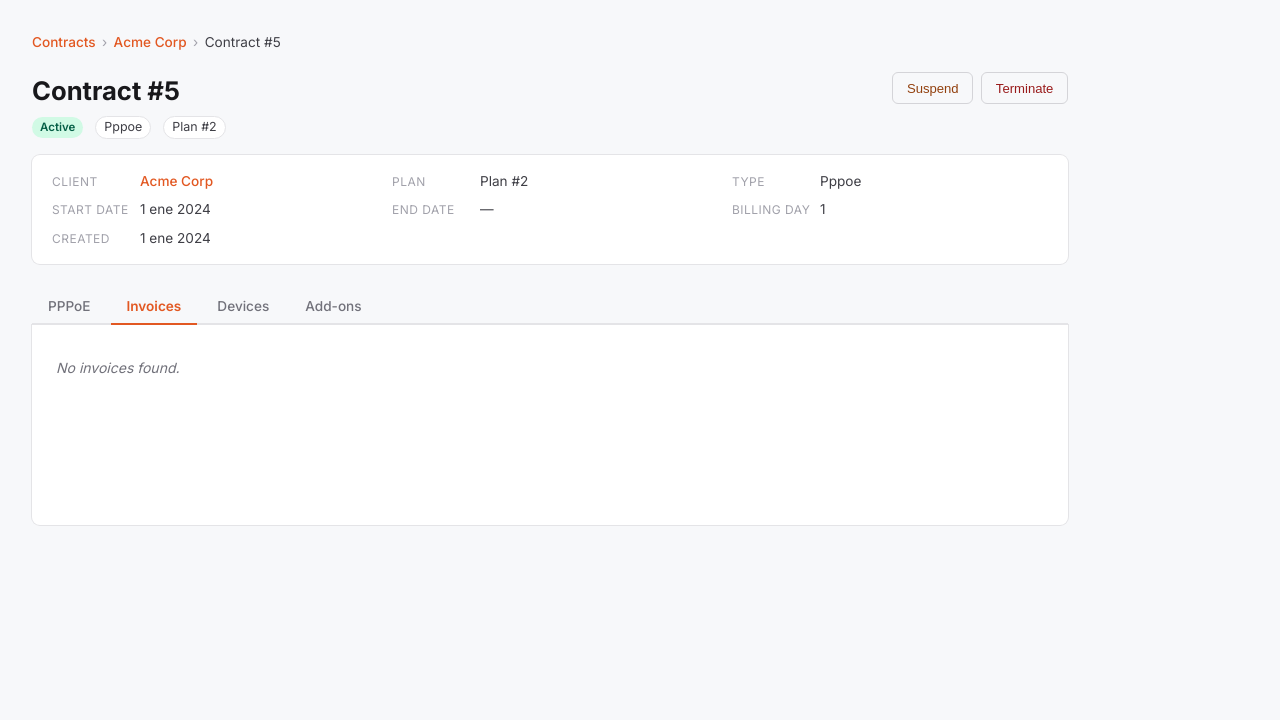
ContractDetail — PPPoE credentials › asks for confirmation before regenerating, then displays the new value
Check: the heading "Contract #5" is shown, box [32, 75, 180, 106]
Click the button "PPPoE".
click(69, 307)  # box [32, 288, 106, 326]
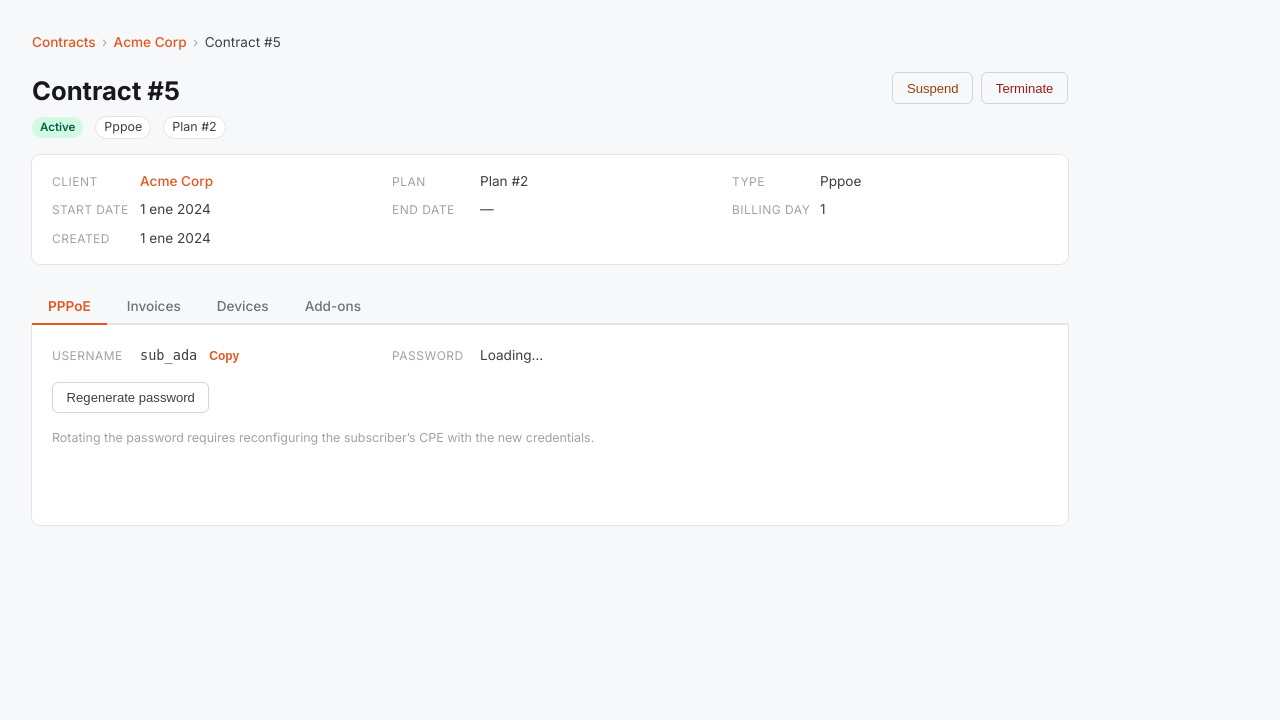
Check: the text "sub_ada" is shown, box [140, 346, 197, 366]
Clicking the trigger opens a confirm dialog and does NOT call the API yet.
Click the button "Regenerate password".
click(131, 398)  # box [52, 382, 210, 413]
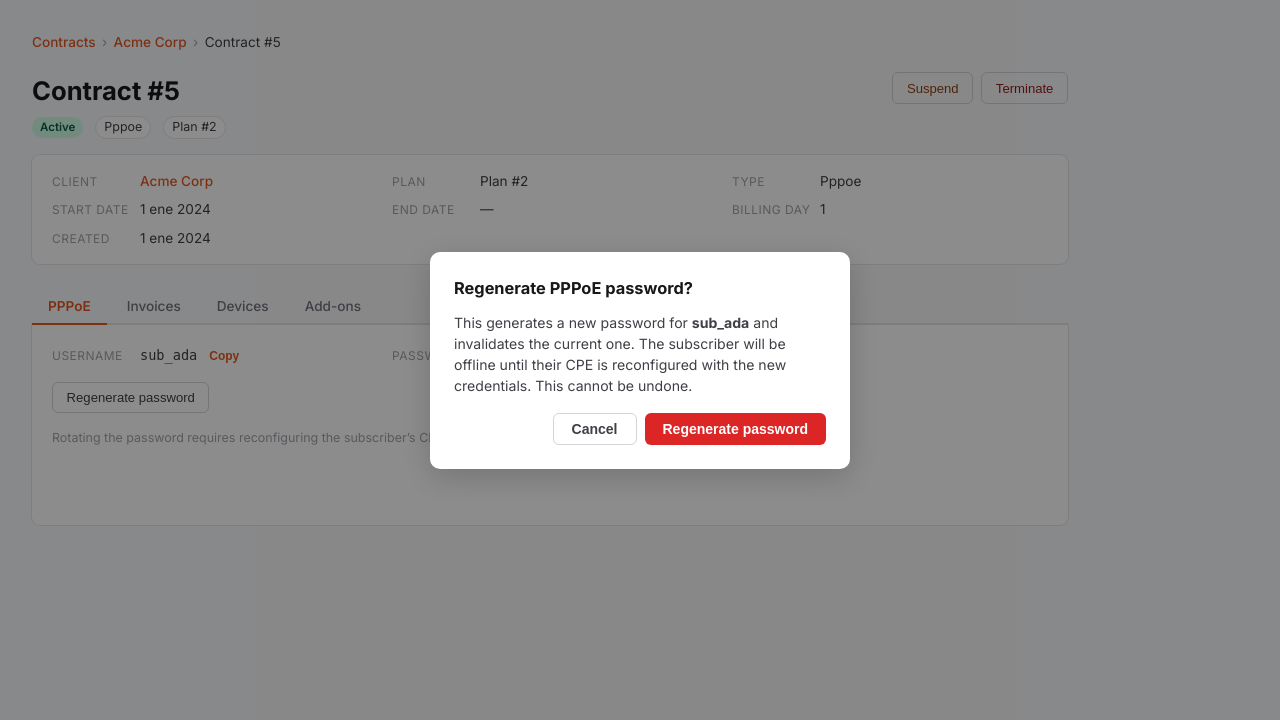
Confirm inside the dialog → API called, new password shown.
Click the button "Regenerate password".
click(735, 428)  # box [644, 412, 826, 444]
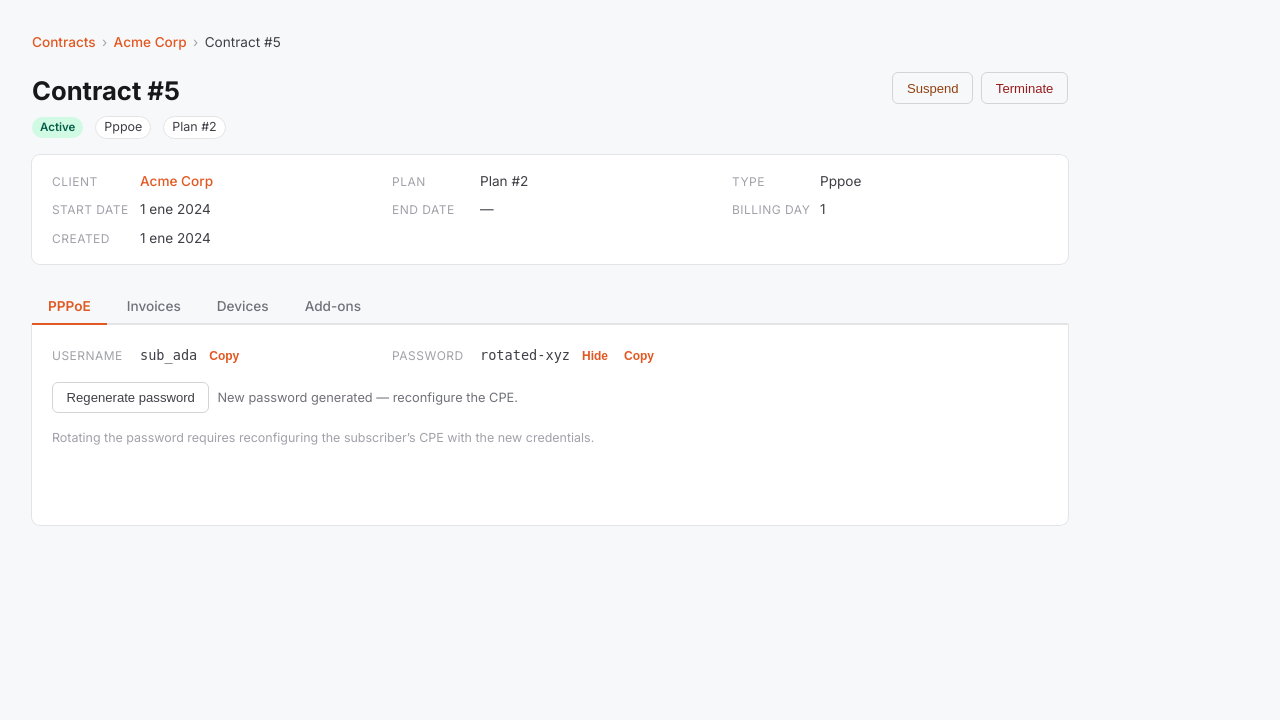
Check: the text "rotated-xyz" is shown, box [480, 346, 570, 366]
